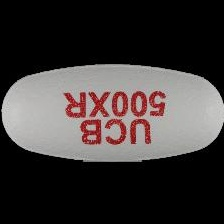65084-460: (0, 0, 224, 224)
